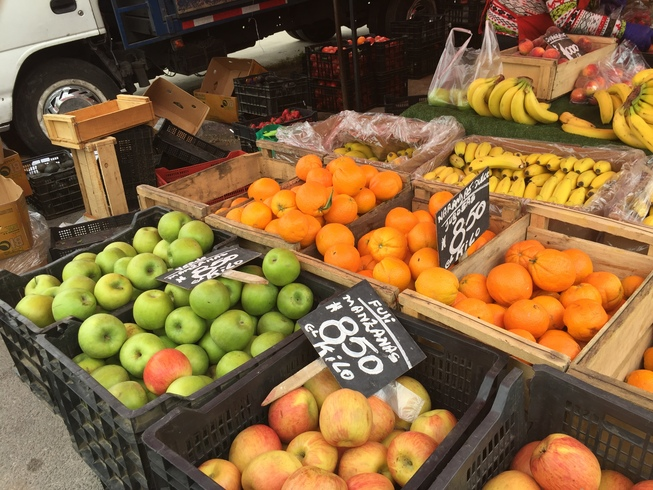precio: (292, 277, 426, 403), (433, 164, 497, 282), (155, 236, 268, 301)
